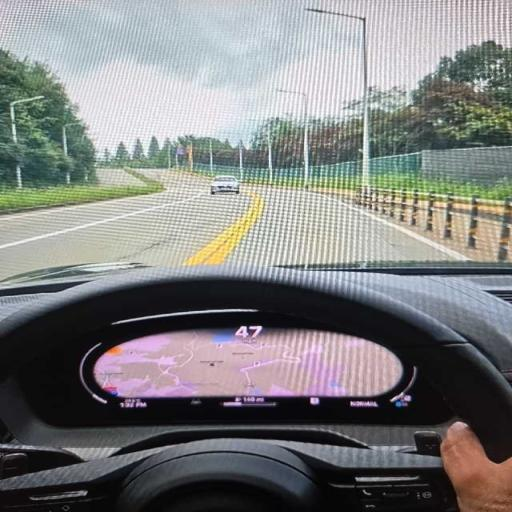car: (211, 176, 239, 194)
lane: (0, 172, 459, 278), (227, 188, 463, 265)
person: (441, 422, 511, 511)
